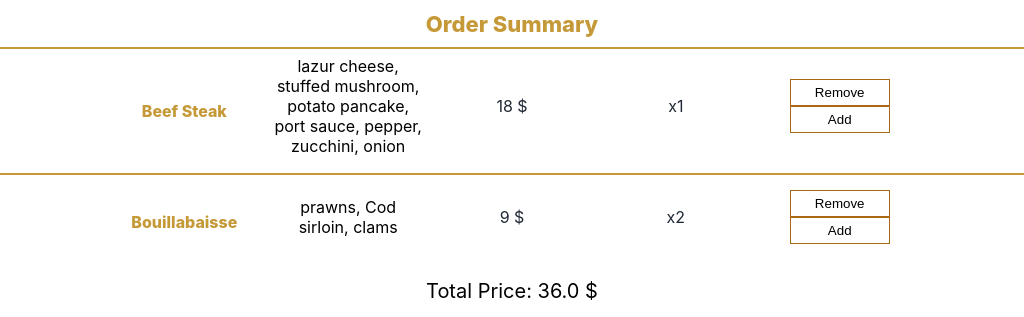
Test: summary prop equals true › should update amount of meals in a row after adding a meal
Click the button "Add" in the row of "18": (840, 120) [790,106,890,133]
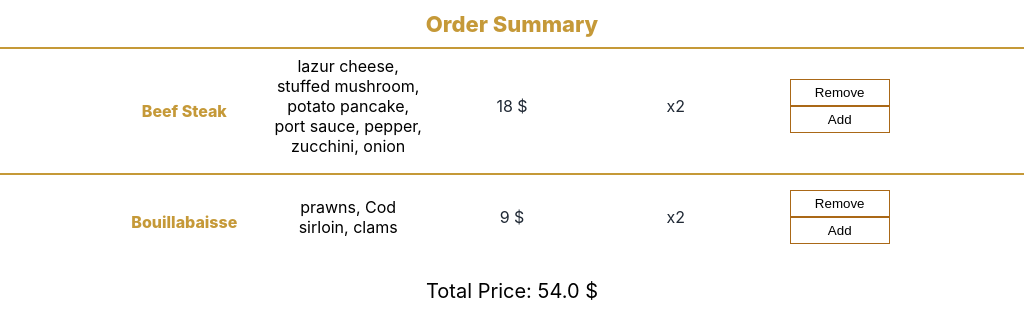
Result: the text "x2" next to "18" is shown at [667,96,685,116]
